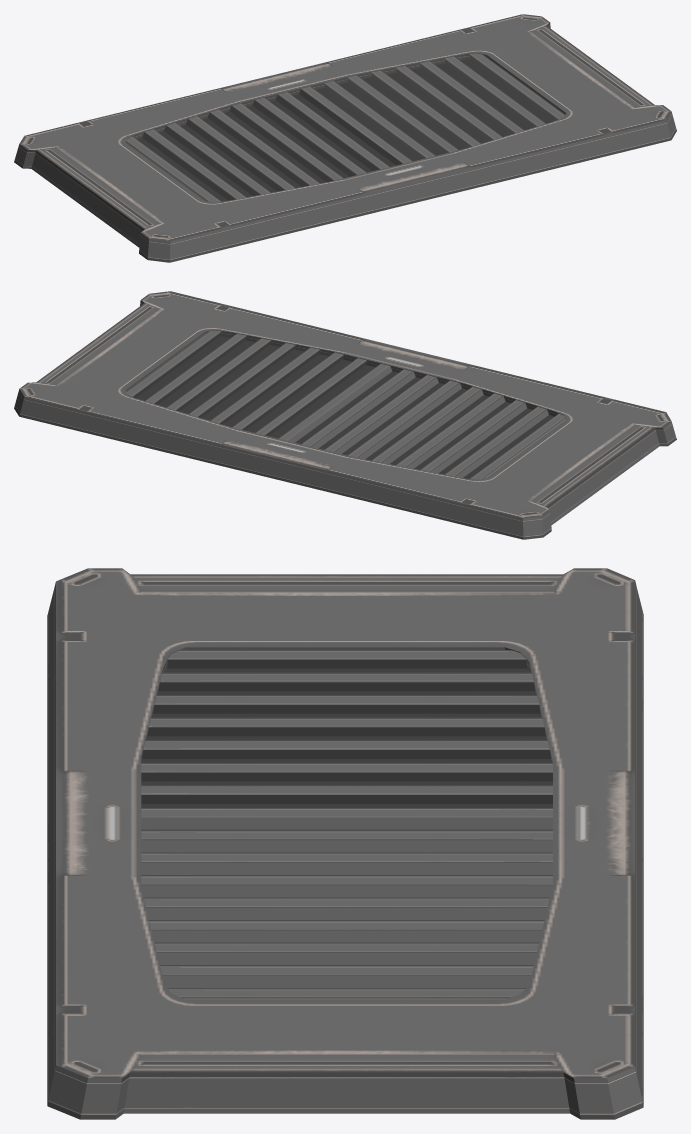
Rendered from quaternius-scifi-vent-big.glb.
The picture shows the model from 3 angles, top to bottom: view 1: azimuth 30°, elevation 25°; view 2: azimuth 150°, elevation 25°; view 3: azimuth 270°, elevation 25°; orthographic projection. The views are drawn at different scales.
Parts seen in each view (by area): view 1: Prop_Vent_Big; view 2: Prop_Vent_Big; view 3: Prop_Vent_Big.
Part boxes in pixels (x1,y1,x2,y2): Prop_Vent_Big: (14, 14, 676, 262); Prop_Vent_Big: (14, 291, 676, 539); Prop_Vent_Big: (47, 568, 643, 1119).
Size of the model in its own units: 2 by 0.0688 by 0.9764.
Materials: 2 (2 with a texture image).
